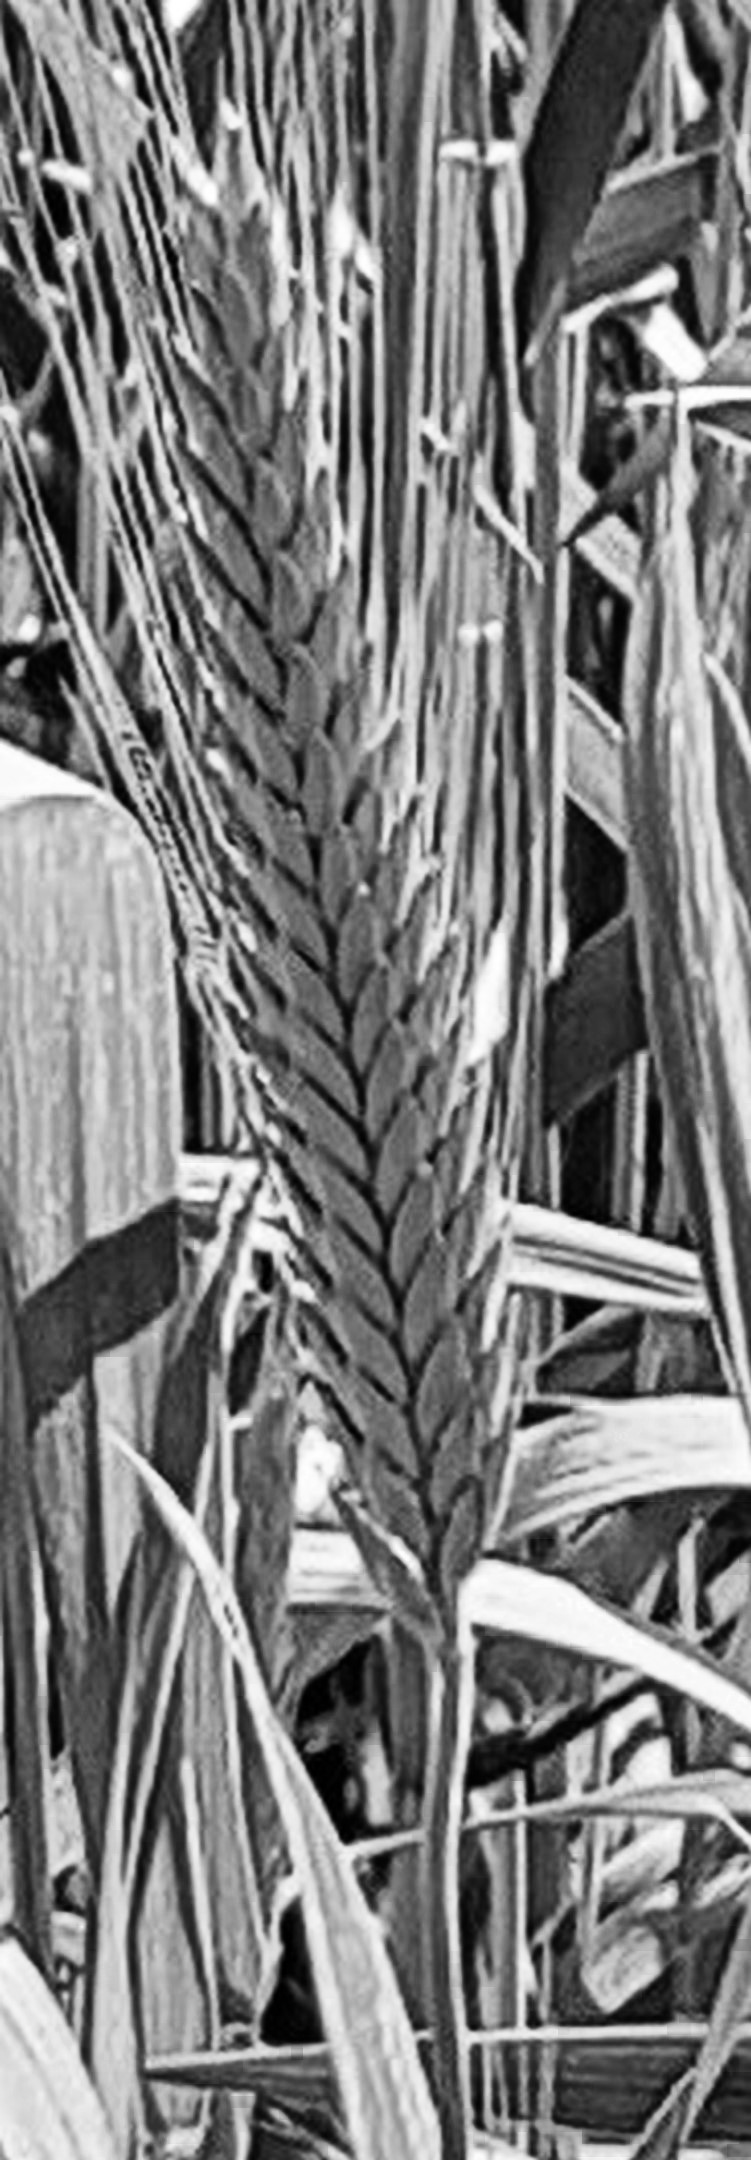Healthy Wheat: (109, 154, 555, 1591)
